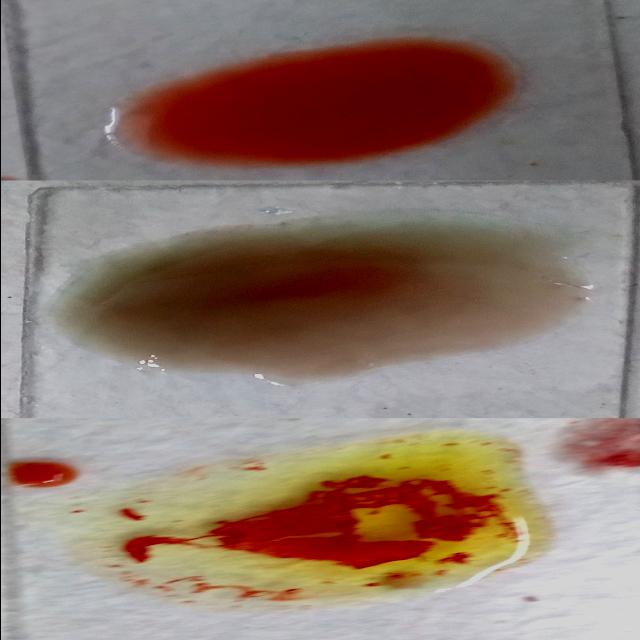B: (73, 448, 535, 602)
